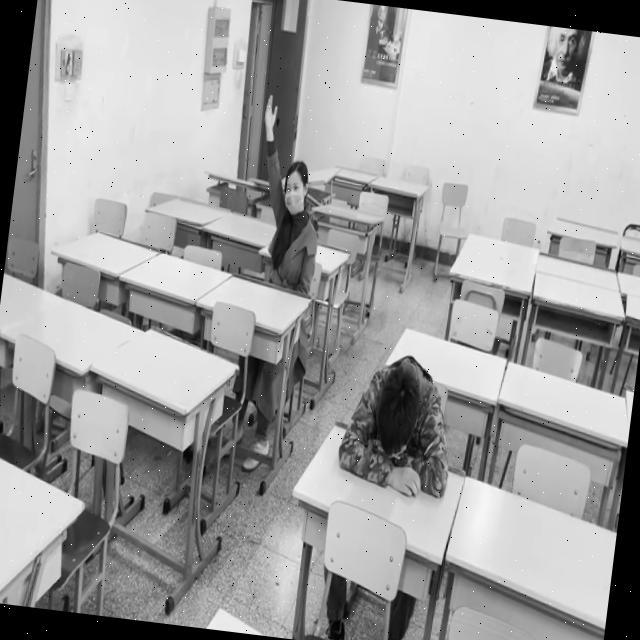sleep: (334, 351, 461, 502)
study: (243, 91, 334, 288)
